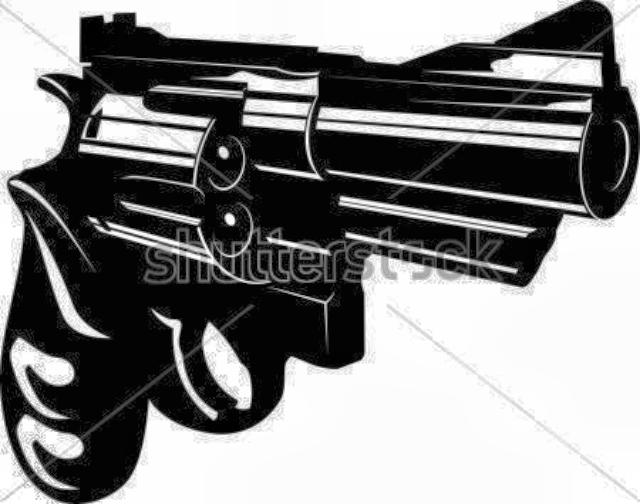pistol: (3, 0, 637, 502)
